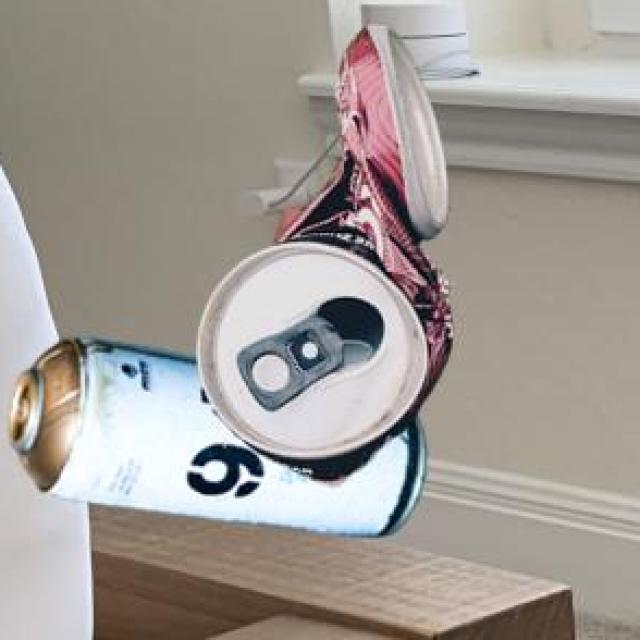logam: (195, 21, 450, 482), (8, 334, 423, 532)
